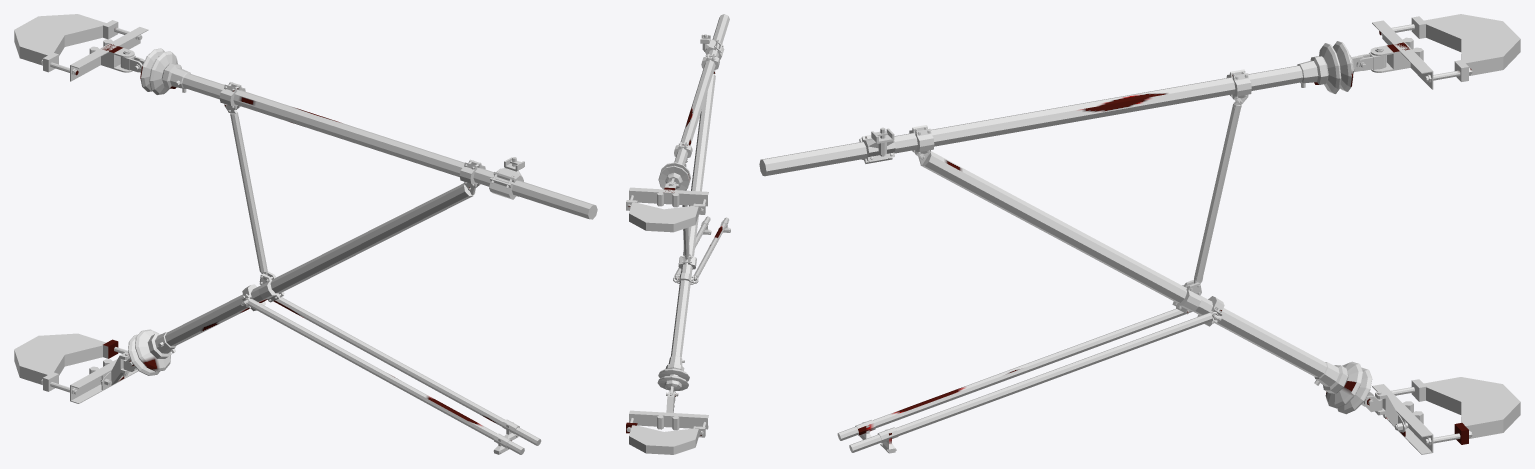
The model's file is Bracket1a23.obj.
3 views of the same model, side by side, from view 1: azimuth 30°, elevation 25°; view 2: azimuth 150°, elevation 25°; view 3: azimuth 270°, elevation 25° (orthographic). The views are drawn at different scales.
Visible parts, largest first — view 1: obj1; view 2: obj1; view 3: obj1.
Boxes of the visible parts, x1,y1,x2,y2 form: obj1: (14,14,597,454); obj1: (626,14,730,454); obj1: (759,14,1520,454).
Size of the model in its own units: 0.9882 by 1.22 by 2.11.
1 material, 1 textured.
